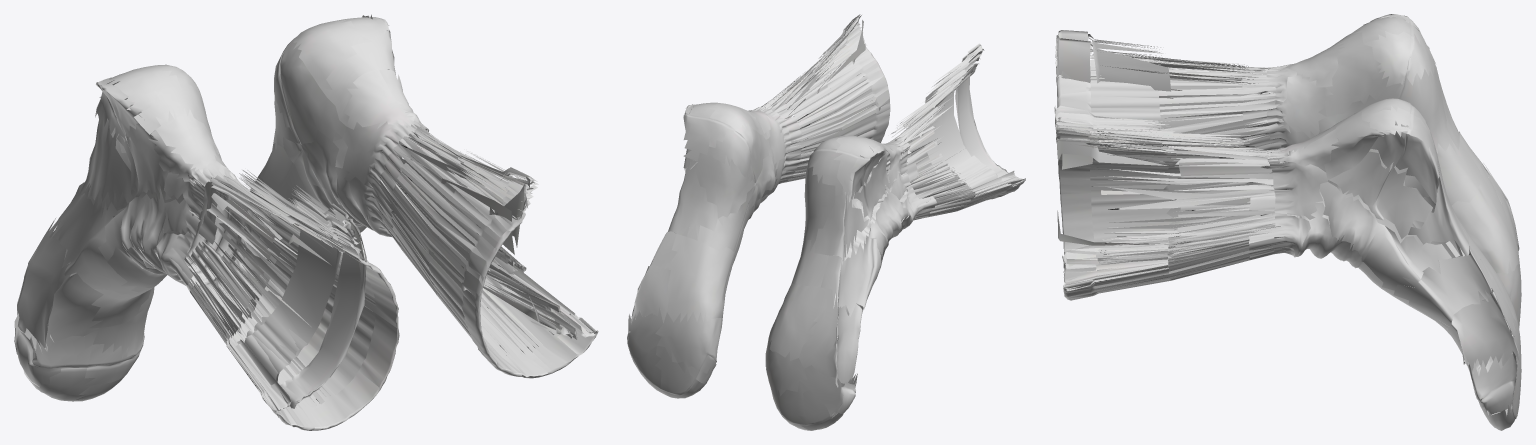
File: adult-base-01.mobile.glb
The picture shows the model from 3 angles, left to right: view 1: azimuth 30°, elevation 25°; view 2: azimuth 150°, elevation 25°; view 3: azimuth 270°, elevation 25°; orthographic projection. The views are drawn at different scales.
Visible parts, largest first — view 1: geometry_0; view 2: geometry_0; view 3: geometry_0.
Boxes of the visible parts, left/top/right/bottom form: geometry_0: left=14, top=14, right=598, bottom=430; geometry_0: left=627, top=14, right=1025, bottom=430; geometry_0: left=1054, top=14, right=1521, bottom=430.
Size of the model in its own units: 0.00219 by 0.00243 by 0.00321.
Materials: 1 (1 with a texture image).
